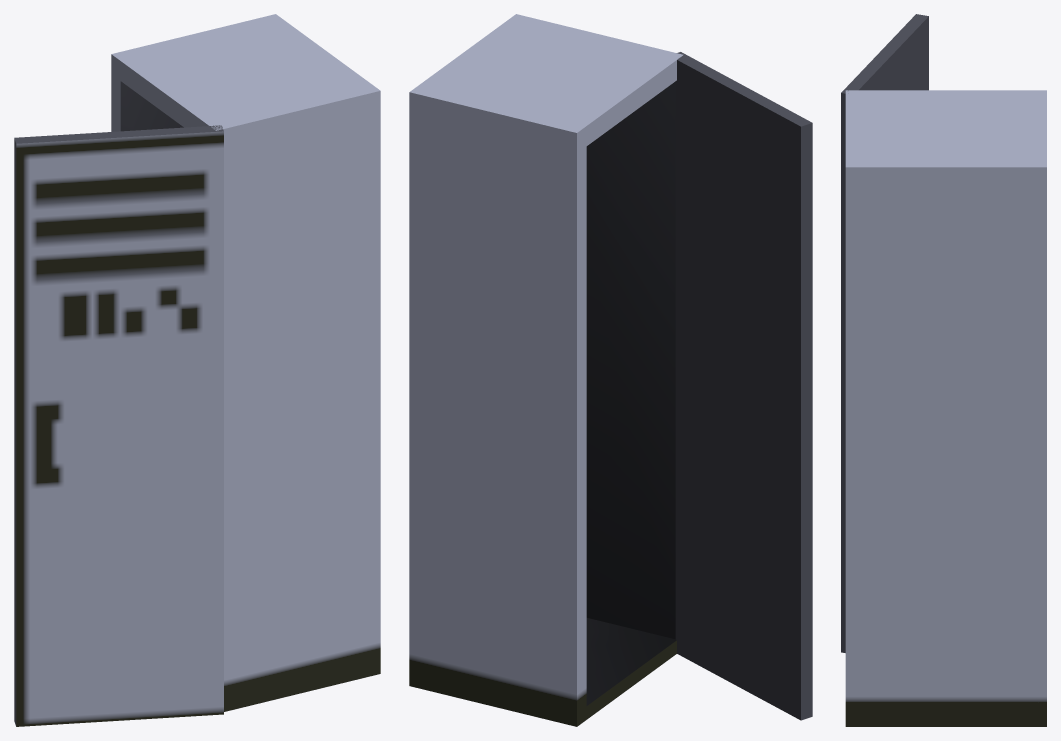
The model's file is lockerOpen.fbx.
The picture shows the model from 3 angles, left to right: view 1: azimuth 30°, elevation 25°; view 2: azimuth 150°, elevation 25°; view 3: azimuth 270°, elevation 25°; orthographic projection. The views are drawn at different scales.
Visible parts, largest first — view 1: Куб.154; view 2: Куб.154; view 3: Куб.154.
Part boxes in pixels (x1,y1,x2,y2): Куб.154: (14,14,380,726); Куб.154: (409,14,812,726); Куб.154: (841,14,1046,726).
Bounding box in the file's own units: 110 × 187 × 62.31.
